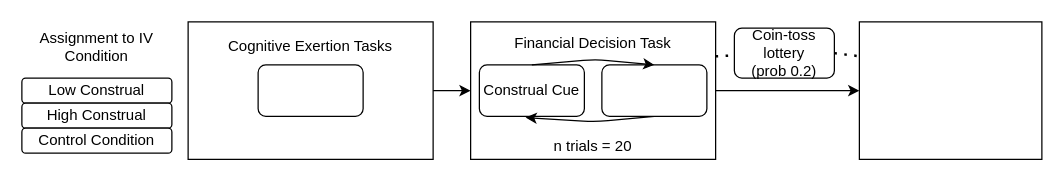
The diagram is 1064 pixels wide and 181 high, and some of its shapes have lost their labels. Each missing label, with the centre of its shape:
Brief Self-control Inventory: point (950, 90)
Coin-toss trial: point (654, 90)
Stroop Task: point (310, 90)
